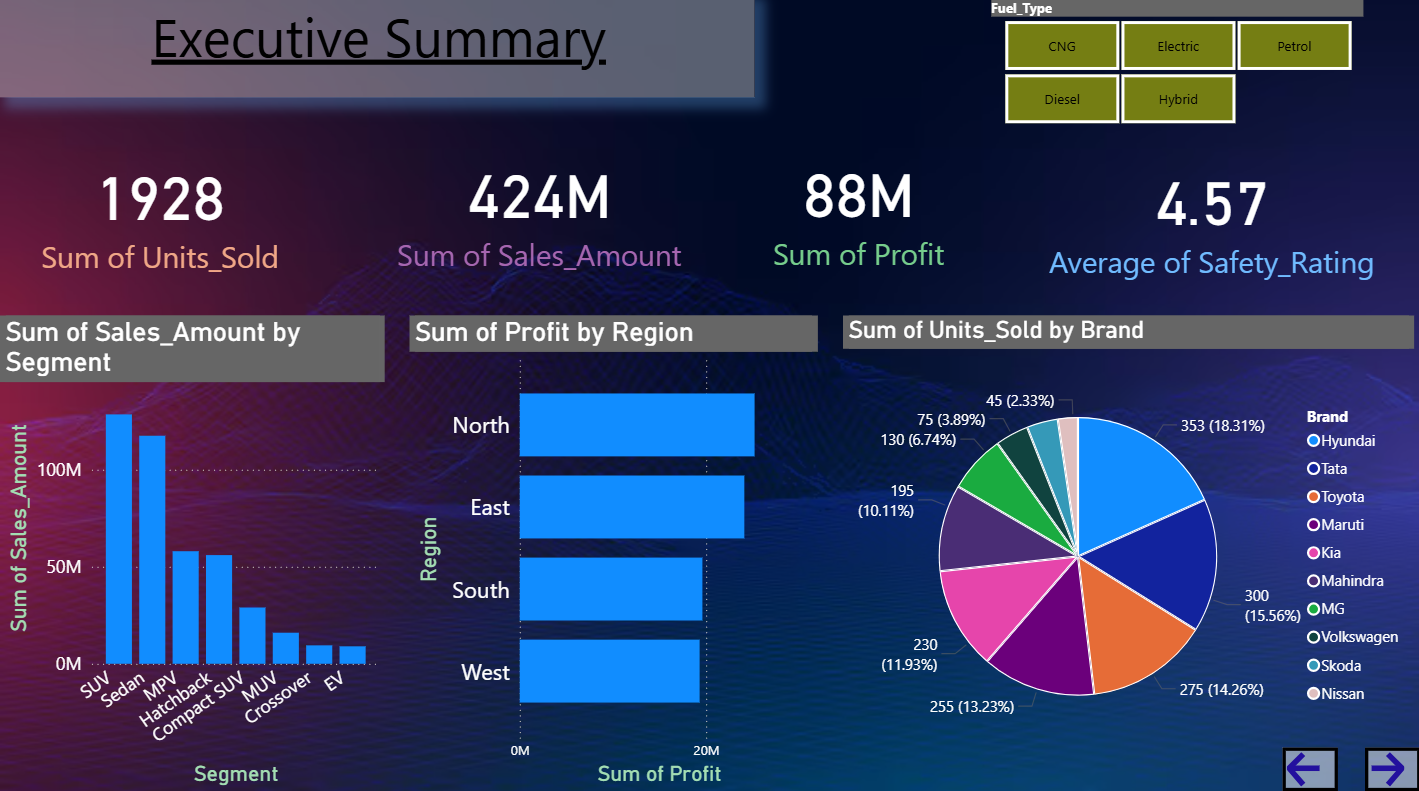

Layout of this report page (visuals, bound fields, positions):
{"tool":"powerbi","page":{"name":"Page 2","canvas":[1280,720],"ordinal":1},"visuals":[{"type":"card","fields":{"Values":["Sum(Car_Dashboard_Final_30Cars (1) (1).Units_Sold)"]},"box":[0,124.2,287.7,142.3],"z":0},{"type":"card","fields":{"Values":["Sum(Car_Dashboard_Final_30Cars (1) (1).Sales_Amount)"]},"box":[331.6,121.1,308.9,145.4],"z":1000},{"type":"card","fields":{"Values":["Sum(Car_Dashboard_Final_30Cars (1) (1).Profit)"]},"box":[620.8,127.2,305.9,131.7],"z":2000},{"type":"card","fields":{"Values":["Avg(Car_Dashboard_Final_30Cars (1) (1).Safety_Rating)"]},"box":[926.7,124.2,328.6,151.4],"z":3000},{"type":"clusteredColumnChart","fields":{"Y":["Sum(Car_Dashboard_Final_30Cars (1) (1).Sales_Amount)"],"Category":["Car_Dashboard_Final_30Cars (1) (1).Segment"]},"box":[0,290.7,346.8,428.5],"z":4000},{"type":"clusteredBarChart","fields":{"Category":["Car_Dashboard_Final_30Cars (1) (1).Region"],"Y":["Sum(Car_Dashboard_Final_30Cars (1) (1).Profit)"]},"box":[369.5,290.7,368,428.5],"z":5000},{"type":"pieChart","fields":{"Y":["Sum(Car_Dashboard_Final_30Cars (1) (1).Units_Sold)"],"Category":["Car_Dashboard_Final_30Cars (1) (1).Brand"]},"box":[760.1,290.7,514.8,408.8],"z":6000},{"type":"slicer","fields":{"Values":["Car_Dashboard_Final_30Cars (1) (1).Fuel_Type"]},"box":[879.8,0,361.9,124.2],"z":7000},{"type":"actionButton","box":[1155.3,679.9,50,39.4],"z":9000},{"type":"actionButton","box":[1229.5,679.9,50,39.4],"z":10000},{"type":"textbox","box":[0,0,679.9,93.9],"z":11000}]}

Visuals, with their boxes in screenshot pixels (x1, y1, x2, y2), scaled from the page's 1280x720 canvas onto the 1419x791 screenshot:
card - Sum(Car_Dashboard_Final_30Cars (1) (1).Units_Sold): (x1=0, y1=136, x2=319, y2=293)
card - Sum(Car_Dashboard_Final_30Cars (1) (1).Sales_Amount): (x1=368, y1=133, x2=710, y2=293)
card - Sum(Car_Dashboard_Final_30Cars (1) (1).Profit): (x1=688, y1=140, x2=1027, y2=284)
card - Avg(Car_Dashboard_Final_30Cars (1) (1).Safety_Rating): (x1=1027, y1=136, x2=1392, y2=303)
clusteredColumnChart - Sum(Car_Dashboard_Final_30Cars (1) (1).Sales_Amount) x Car_Dashboard_Final_30Cars (1) (1).Segment: (x1=0, y1=319, x2=384, y2=790)
clusteredBarChart - Car_Dashboard_Final_30Cars (1) (1).Region x Sum(Car_Dashboard_Final_30Cars (1) (1).Profit): (x1=410, y1=319, x2=818, y2=790)
pieChart - Sum(Car_Dashboard_Final_30Cars (1) (1).Units_Sold) x Car_Dashboard_Final_30Cars (1) (1).Brand: (x1=843, y1=319, x2=1413, y2=768)
slicer - Car_Dashboard_Final_30Cars (1) (1).Fuel_Type: (x1=975, y1=0, x2=1377, y2=136)
actionButton: (x1=1281, y1=747, x2=1336, y2=790)
actionButton: (x1=1363, y1=747, x2=1418, y2=790)
textbox: (x1=0, y1=0, x2=754, y2=103)
